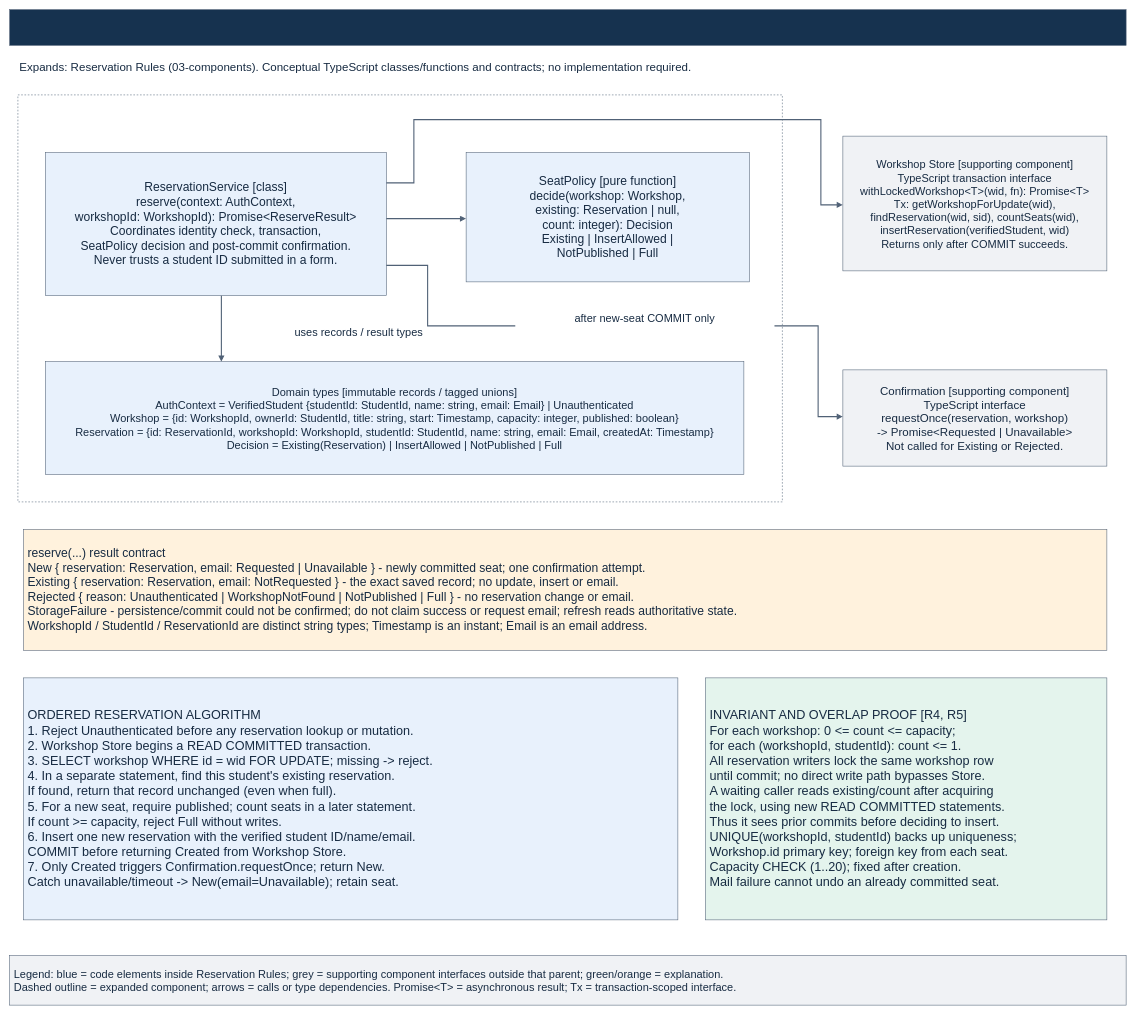
Image size: 1136x1015. Some labels were removed from this diagram. Here are the shapes that lost their labels. From the top down, the centre of each, then its label:
At point (567, 27): "04 | Code - Reservation Rules".
At point (400, 110): "RESERVATION RULES [Component inside Board Web App]".
At point (643, 137): "await transaction callback".
At point (426, 199): "decide(data) -> Decision".
